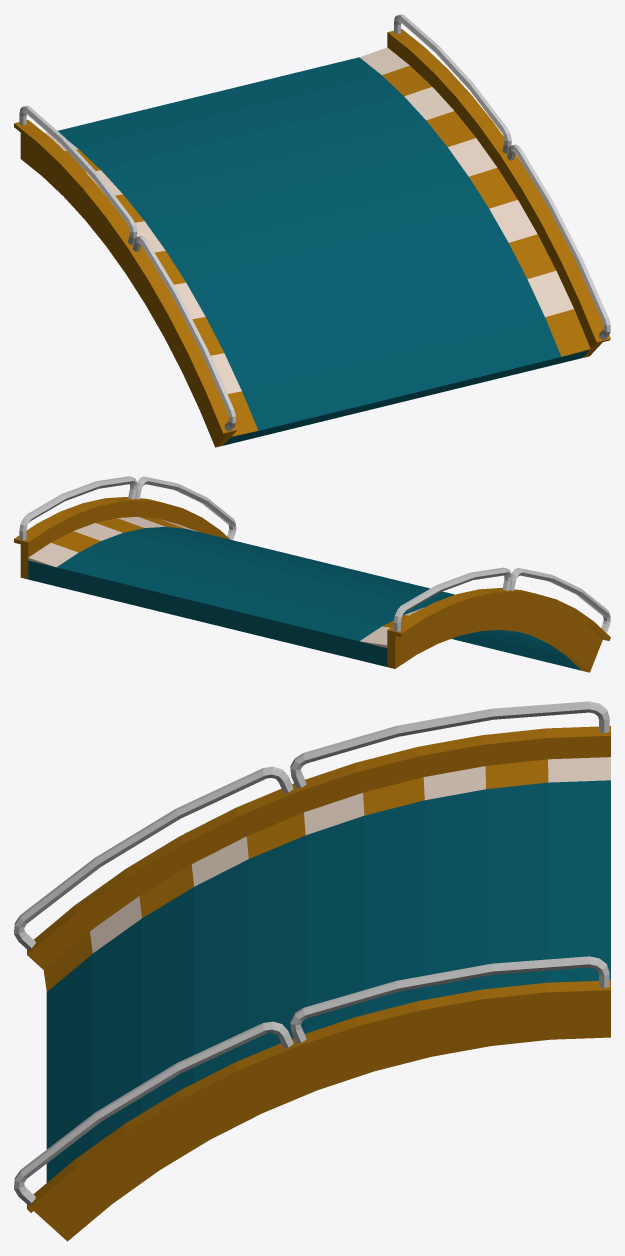
File: descent-45_s.FBX
The picture shows the model from 3 angles, top to bottom: view 1: azimuth 30°, elevation 25°; view 2: azimuth 150°, elevation 25°; view 3: azimuth 270°, elevation 25°; orthographic projection. The views are drawn at different scales.
Parts seen in each view (by area): view 1: descent-45_s, wall_r, wall_l, curbs_l, curbs_r; view 2: descent-45_s, wall_r, wall_l, curbs_l, curbs_r; view 3: descent-45_s, wall_l, wall_r, curbs_r.
Part boxes in pixels (box(x1,y1,x2,y2)): descent-45_s: box(58, 57, 589, 445); wall_r: box(14, 105, 237, 447); wall_l: box(387, 14, 610, 357); curbs_l: box(359, 47, 590, 356); curbs_r: box(44, 132, 258, 437); descent-45_s: box(28, 526, 581, 670); wall_r: box(387, 567, 610, 672); wall_l: box(14, 476, 236, 579); curbs_l: box(28, 516, 197, 567); curbs_r: box(360, 607, 423, 647); descent-45_s: box(46, 780, 610, 1182); wall_l: box(14, 956, 610, 1241); wall_r: box(14, 701, 610, 969); curbs_r: box(43, 757, 610, 991).
Size of what is drawn, in the model's own units: 207 by 104 by 198.
